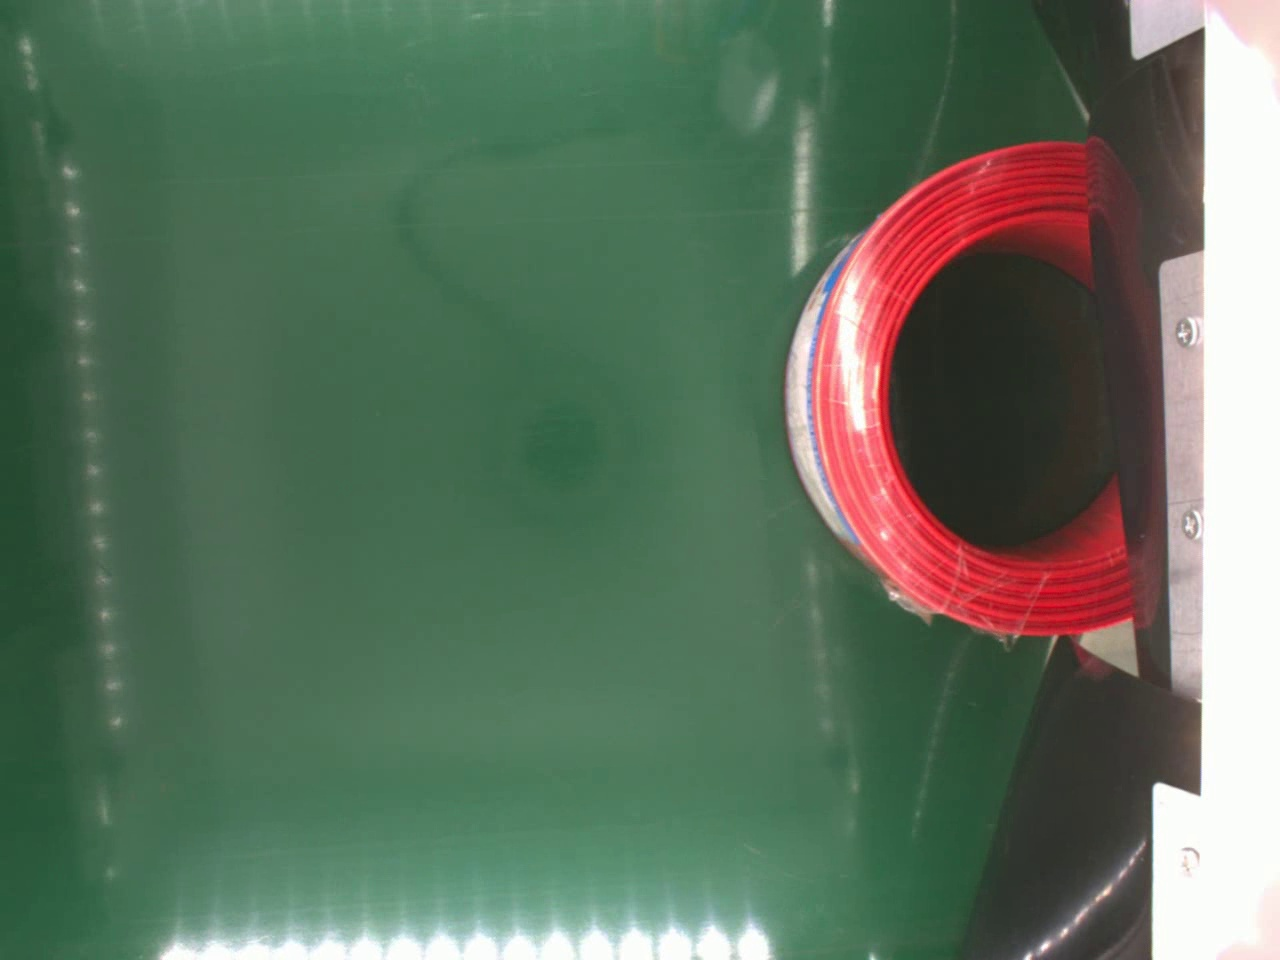red: (780, 135, 1131, 636)
